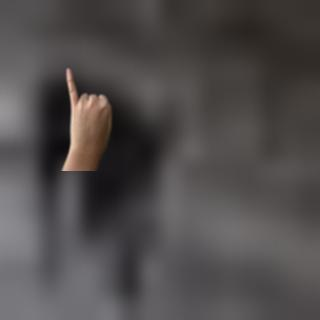Fine: (60, 55, 120, 168)
